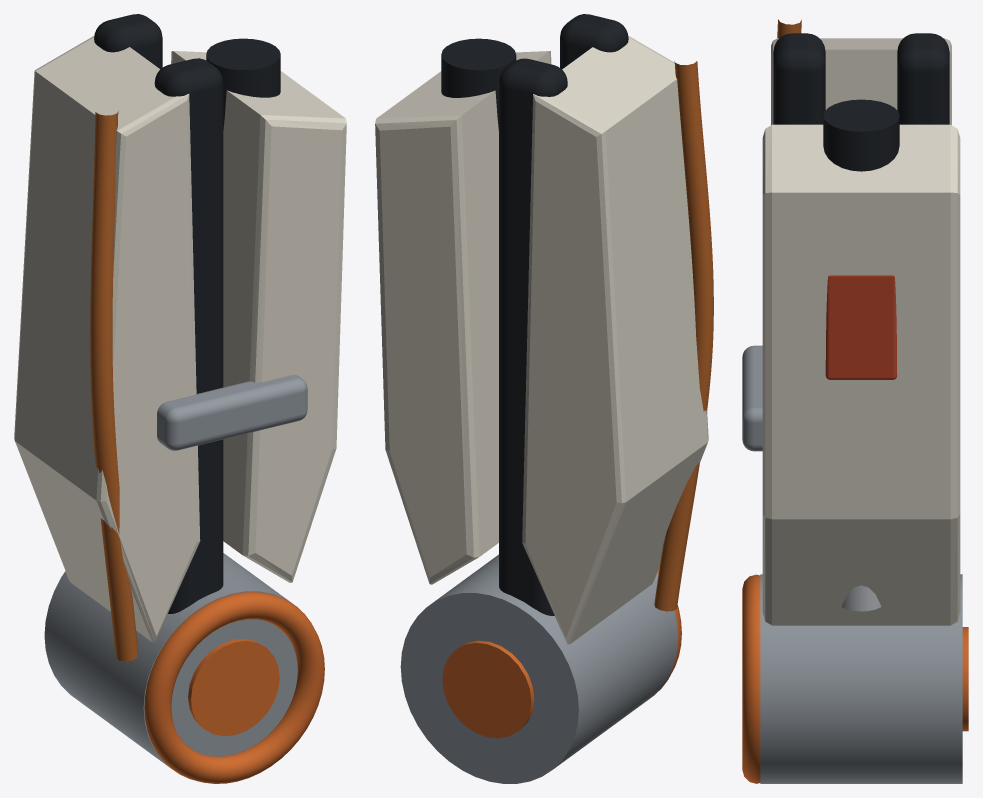
File: right_shin_link.glb
3 renders of one model, left to right at view 1: azimuth 30°, elevation 25°; view 2: azimuth 150°, elevation 25°; view 3: azimuth 270°, elevation 25°, orthographic. The views are drawn at different scales.
Parts seen in each view (by area): view 1: right_shin_link; view 2: right_shin_link; view 3: right_shin_link.
Part boxes in pixels (x1,y1,x2,y2): right_shin_link: (14,14,346,783); right_shin_link: (375,14,713,783); right_shin_link: (742,19,968,783).
Bounding box in the file's own units: 0.1242 × 0.334 × 0.095.
